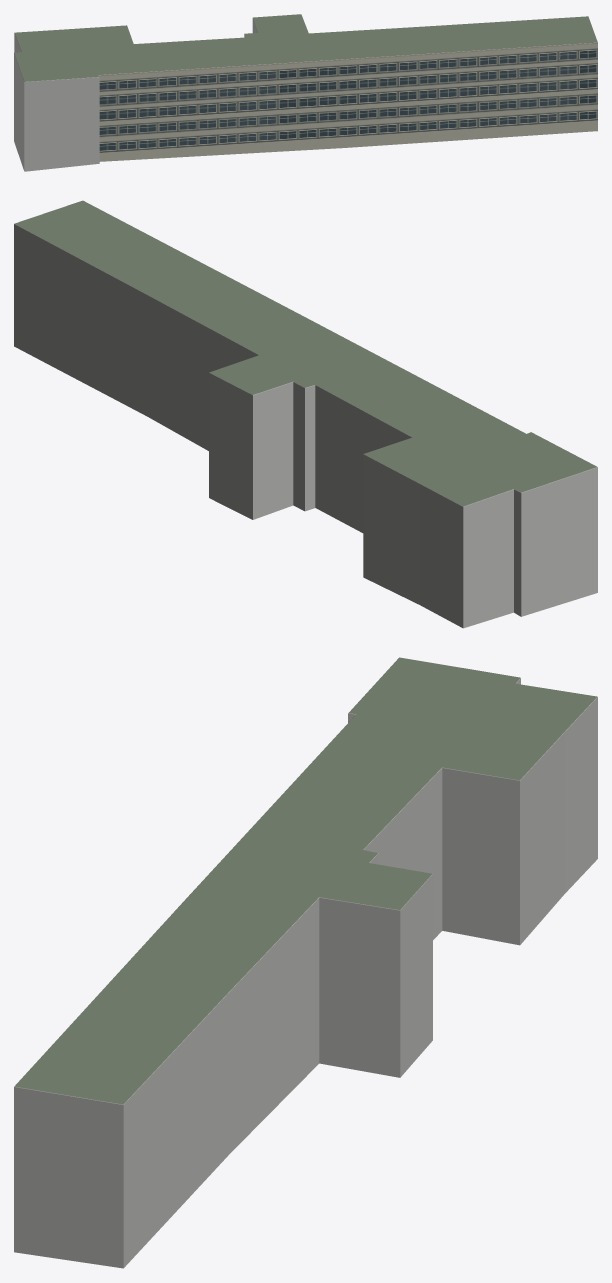
The model's file is intact.glb.
3 renders of one model, top to bottom at view 1: azimuth 30°, elevation 25°; view 2: azimuth 150°, elevation 25°; view 3: azimuth 270°, elevation 25°, orthographic. The views are drawn at different scales.
Visible parts, largest first — view 1: SM_teachers_Intact_00; view 2: SM_teachers_Intact_00; view 3: SM_teachers_Intact_00.
Boxes of the visible parts, bbox=[...] form: SM_teachers_Intact_00: bbox=[14, 14, 597, 171]; SM_teachers_Intact_00: bbox=[14, 200, 597, 628]; SM_teachers_Intact_00: bbox=[14, 657, 597, 1268].
Bounding box in the file's own units: 2.2 × 0.3854 × 1.21.
3 materials, 1 textured.
